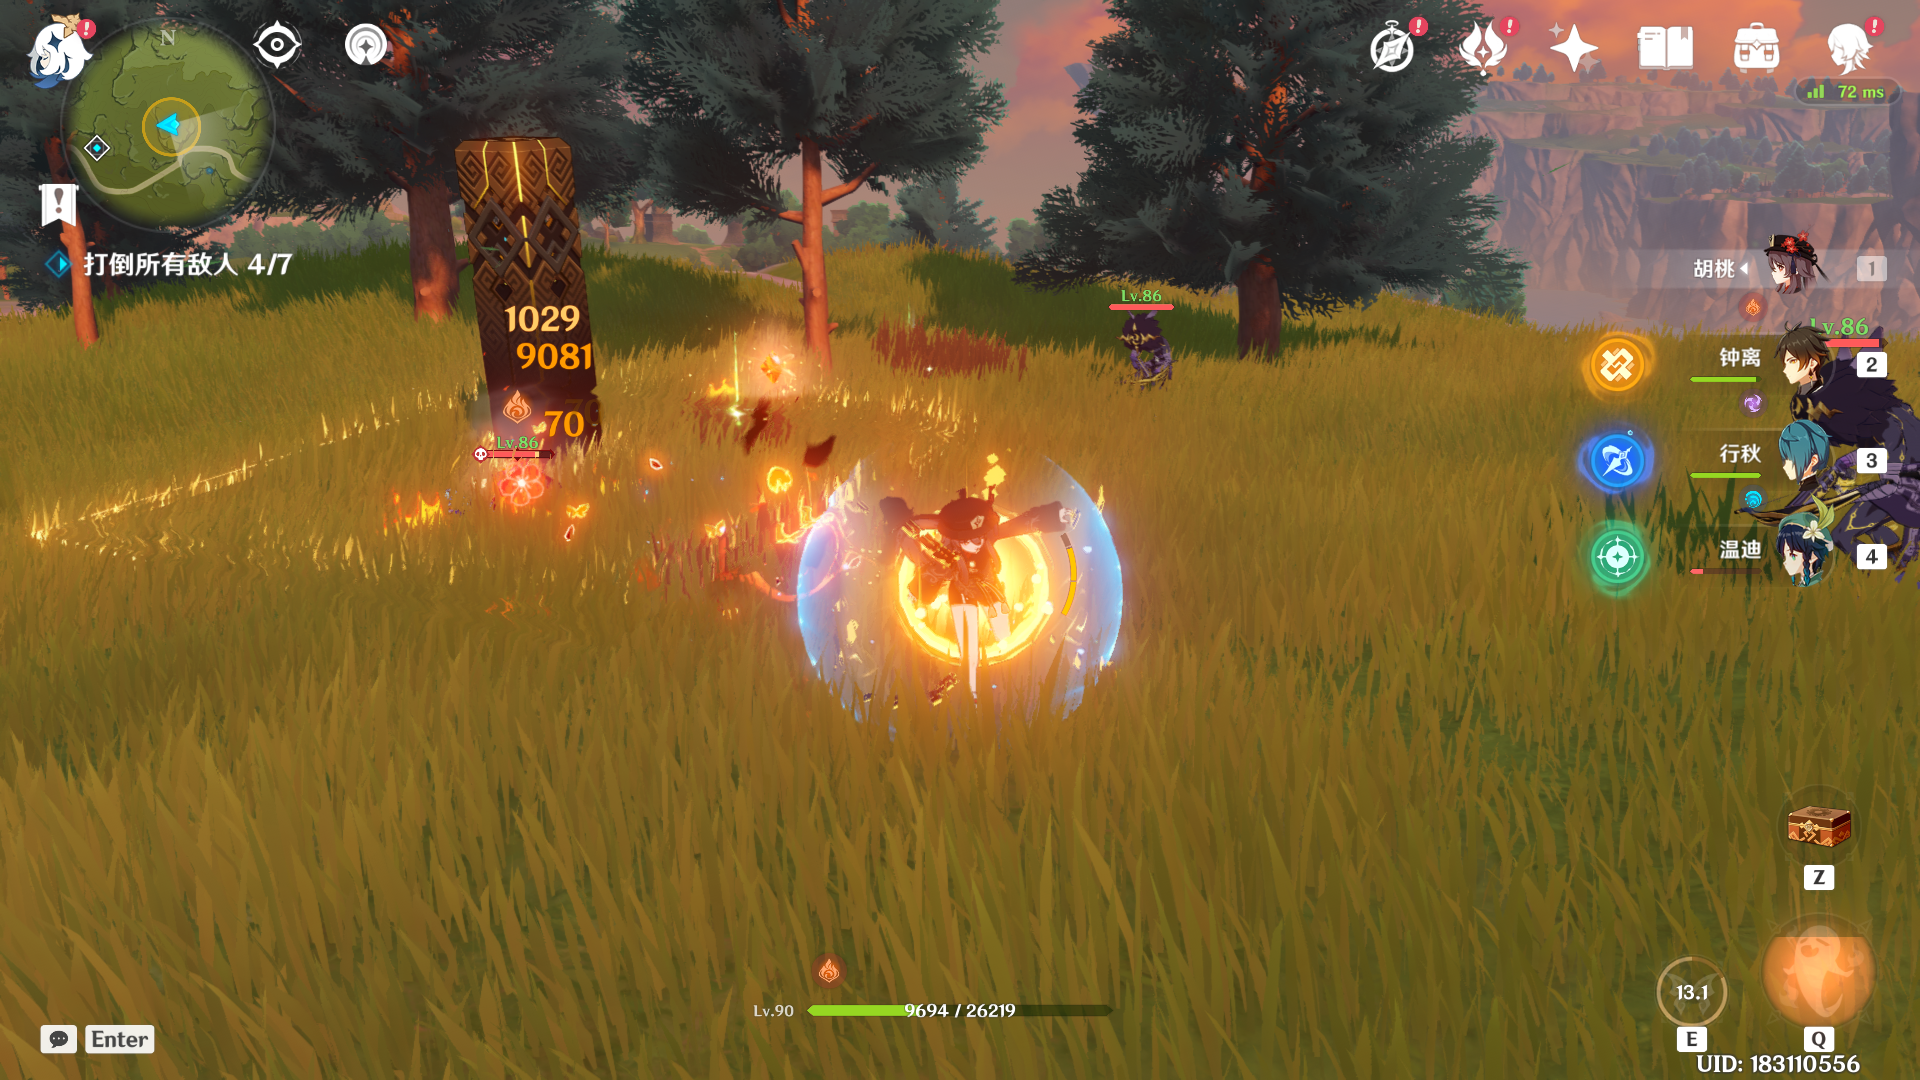character: (844, 460, 1113, 767)
hili: (1097, 285, 1215, 446)
